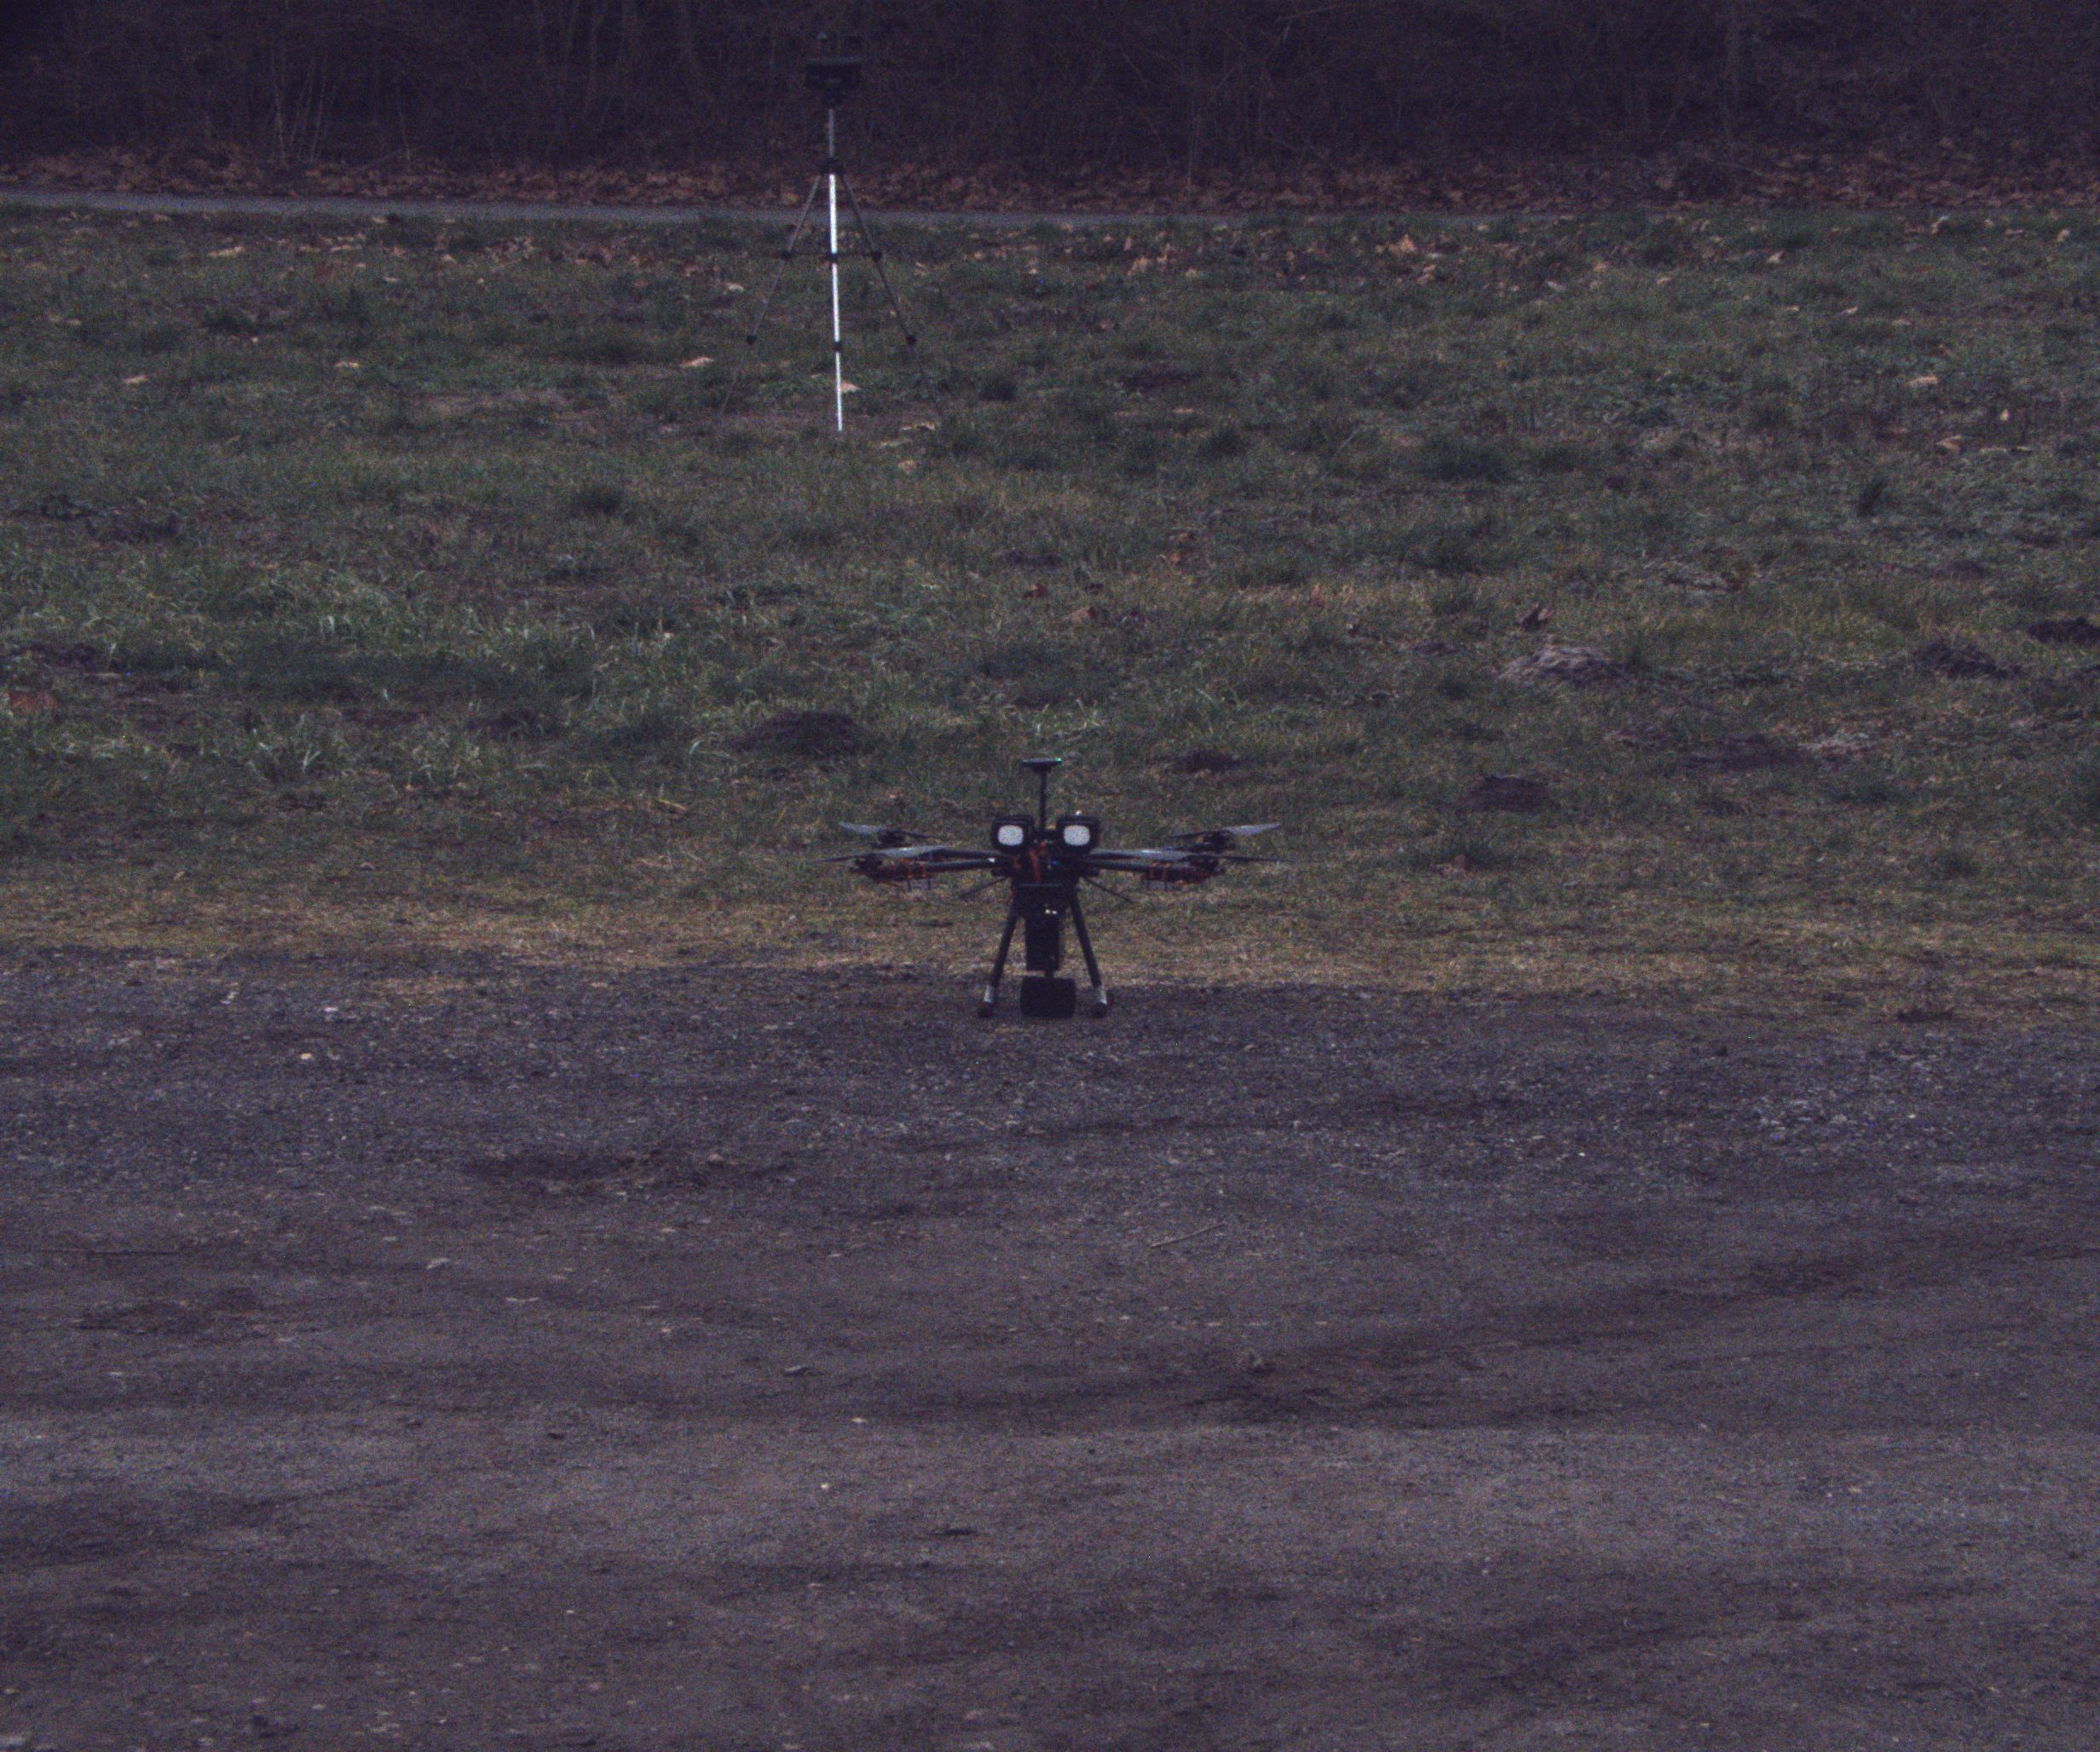Drohne: (795, 690, 1319, 1039)
